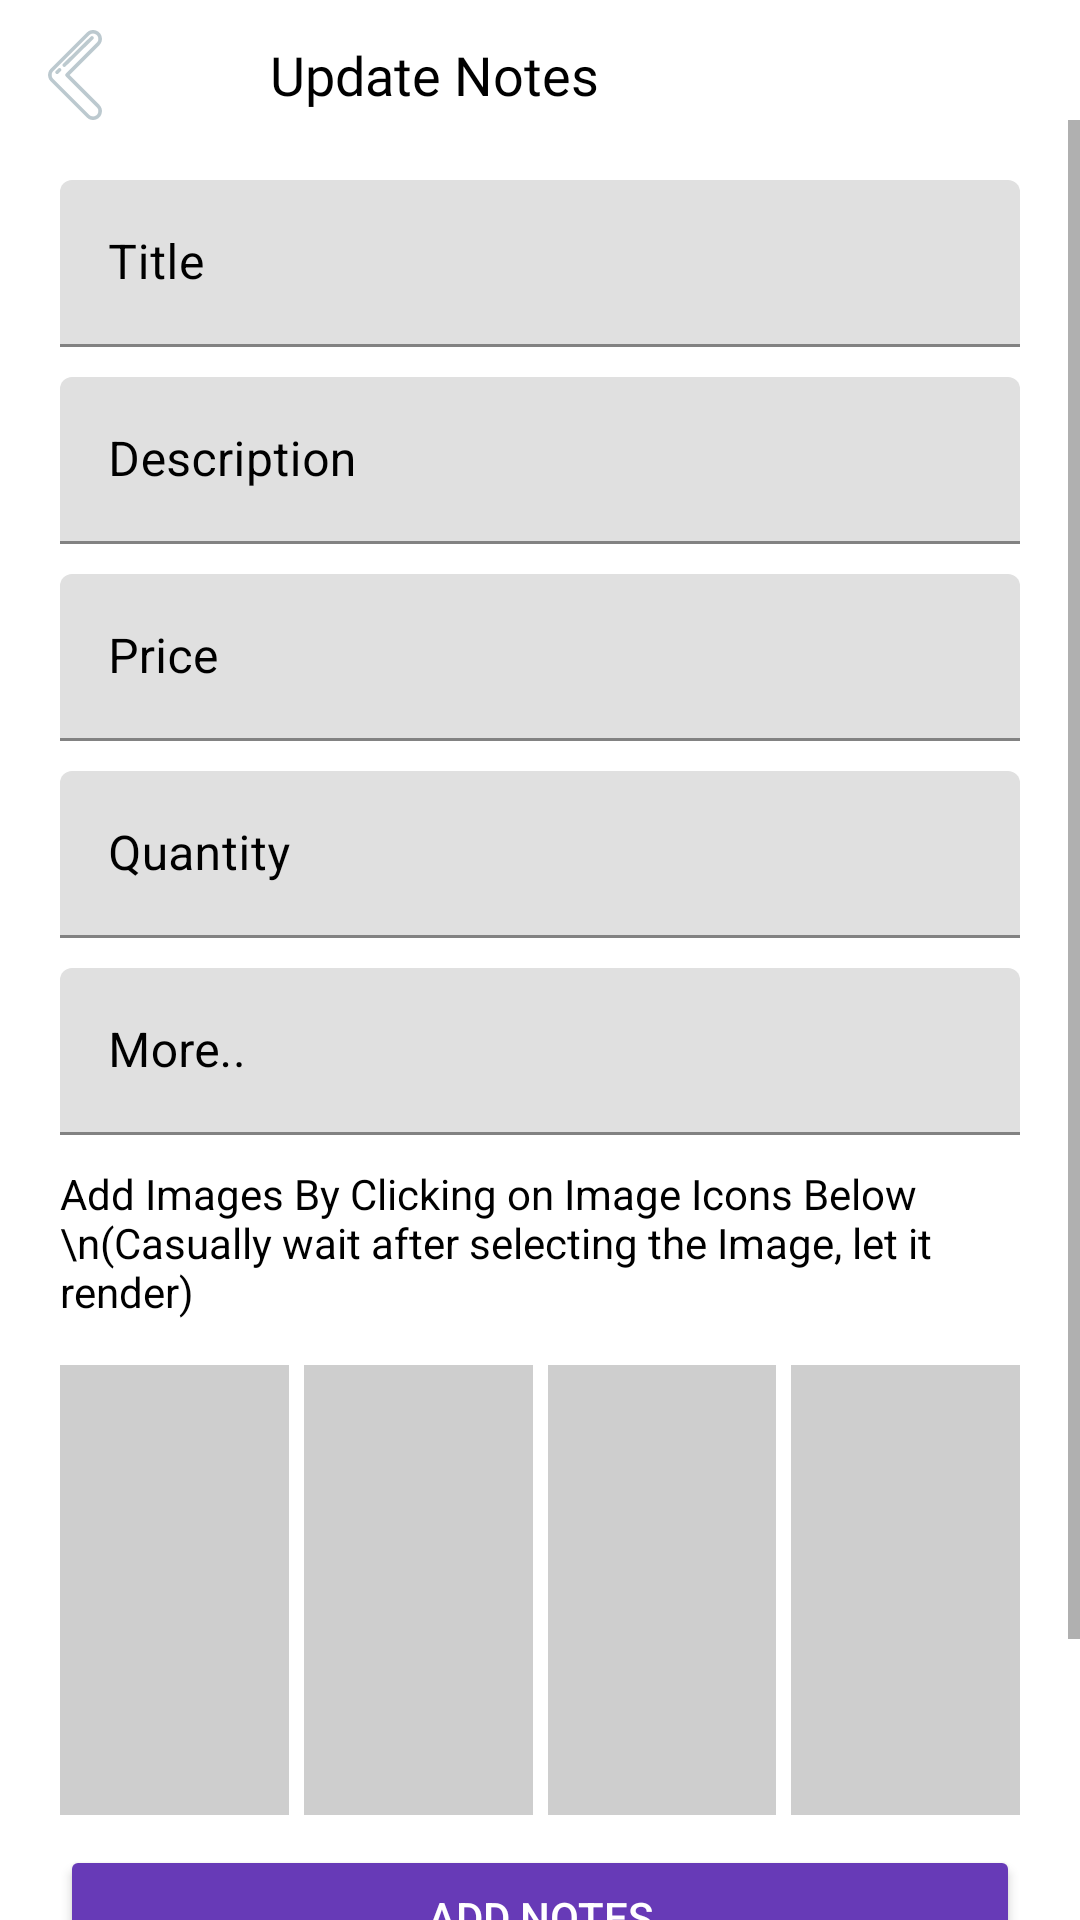

Locate icon controls on the screen. Image size 1080px x 1920px, boxes as BBox(x1, y1, x2, y2).
backward: BBox(48, 30, 102, 120)
